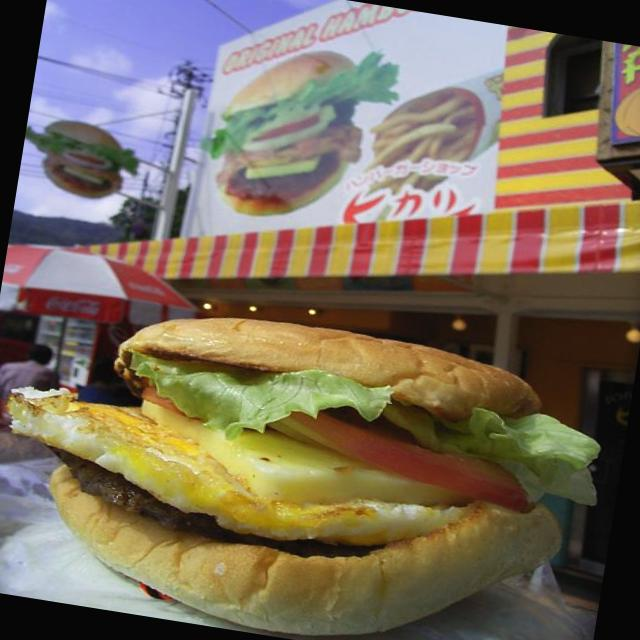Hamburger: (0, 258, 638, 640)
